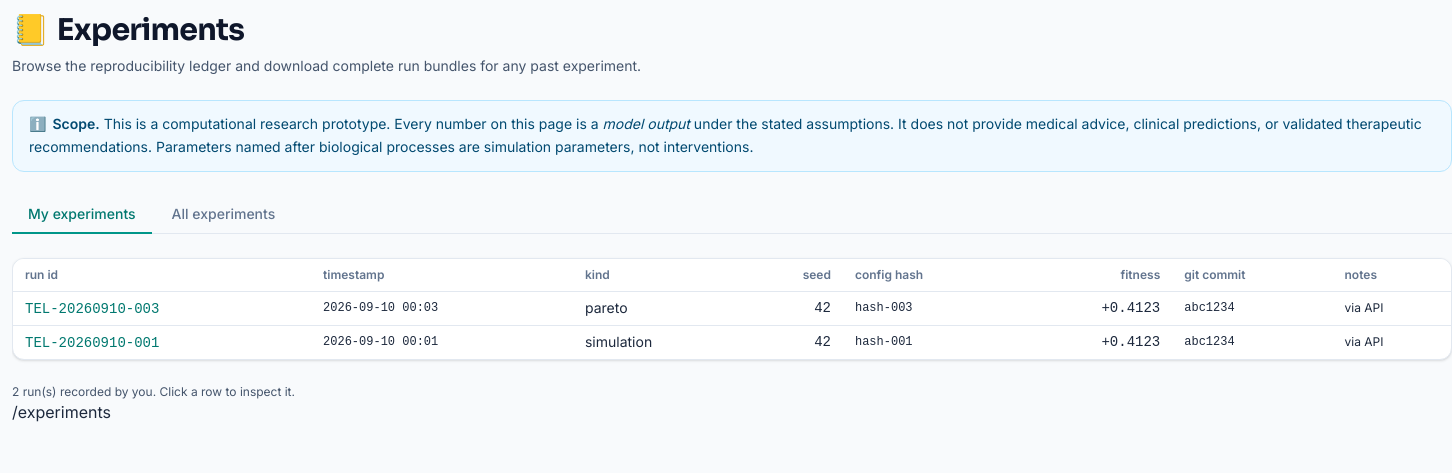
Test: Experiments page › lists my runs newest first, switching tabs changes ?mine= and refetches
Expected: the table with test id "ledger-table" shows "hash-003", [855, 301, 912, 315]
Expected: the table with test id "ledger-table" shows "abc1234", [1184, 301, 1235, 315]
Click the tab "All experiments": click(223, 214) [156, 196, 291, 234]
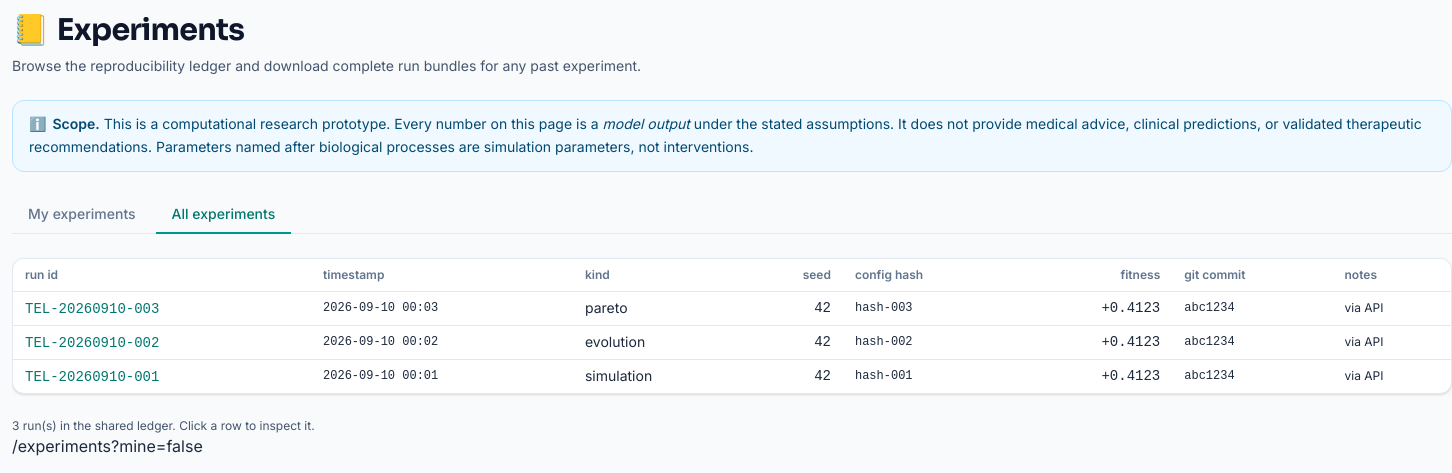
Expected: the text with test id "location" reads "/experiments?mine=false", [12, 436, 203, 456]
